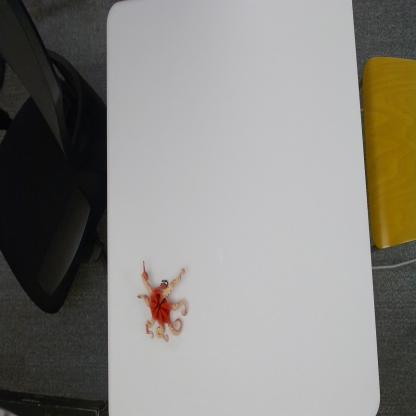Octopus: (136, 257, 188, 344)
